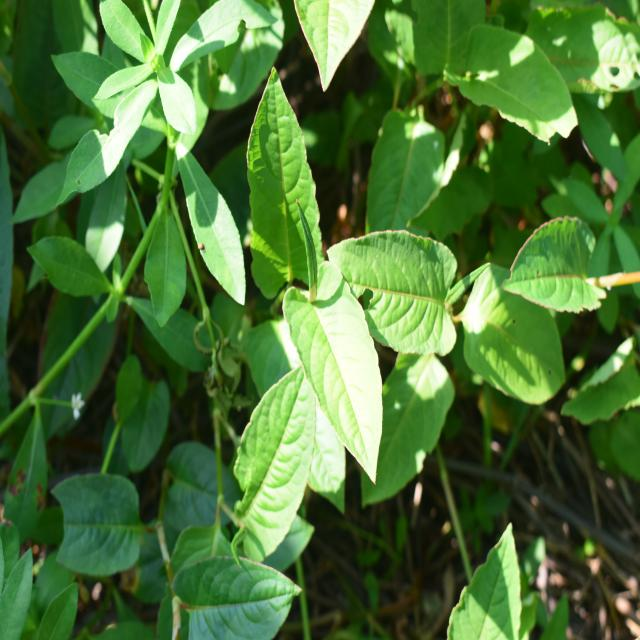Chinese_knotweed: (239, 68, 414, 500), (366, 200, 622, 432)
